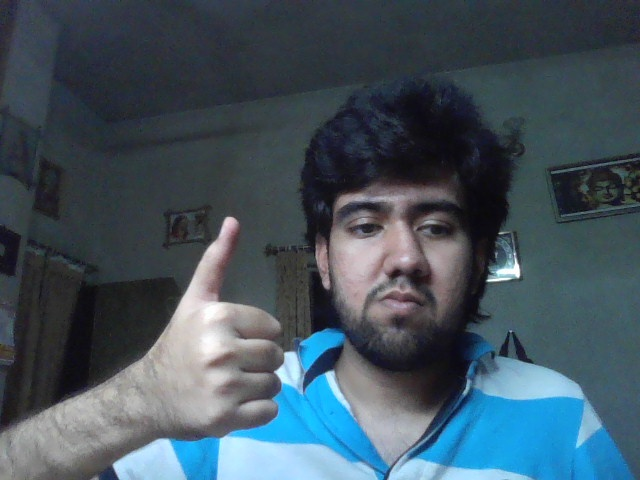Ok: (154, 217, 284, 434)
